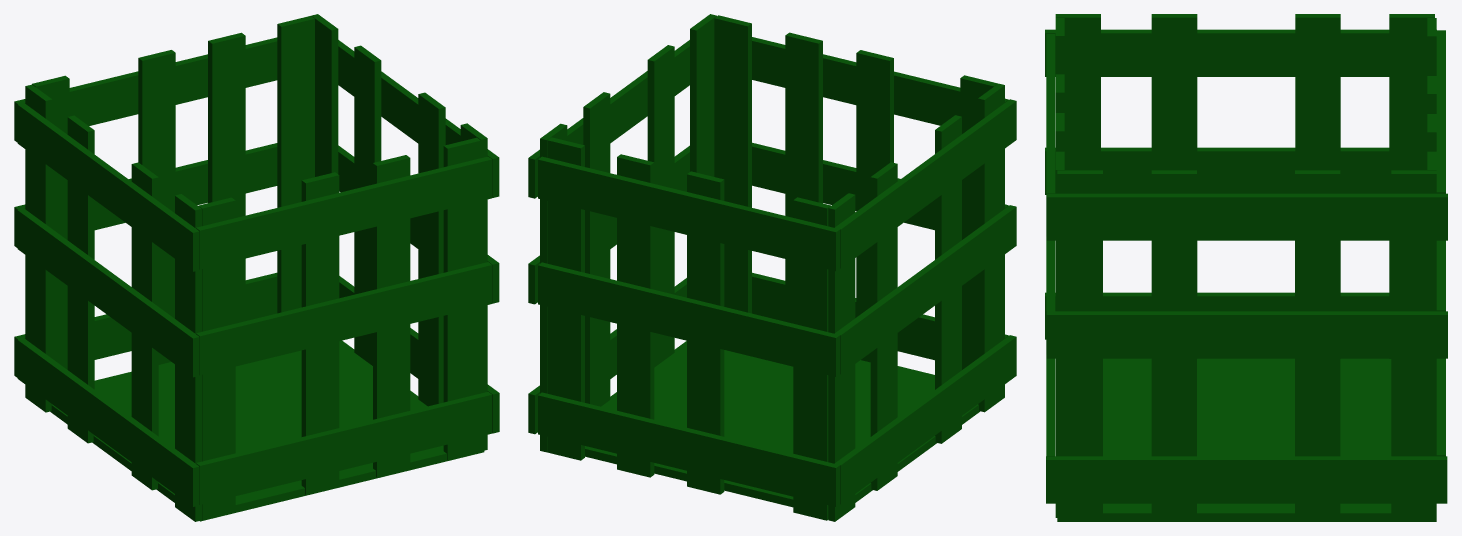
The model's file is crate06.FBX.
The picture shows the model from 3 angles, left to right: view 1: azimuth 30°, elevation 25°; view 2: azimuth 150°, elevation 25°; view 3: azimuth 270°, elevation 25°; orthographic projection. The views are drawn at different scales.
Visible parts, largest first — view 1: SM_crate06_0; view 2: SM_crate06_0; view 3: SM_crate06_0.
Boxes of the visible parts, x1,y1,x2,y2 form: SM_crate06_0: (14,14,499,521); SM_crate06_0: (528,14,1016,521); SM_crate06_0: (1045,14,1447,521).
Size of the model in its own units: 50.36 by 51.2 by 49.08.
